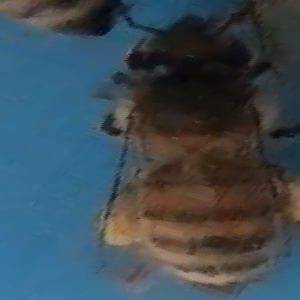bee: (110, 15, 290, 294)
